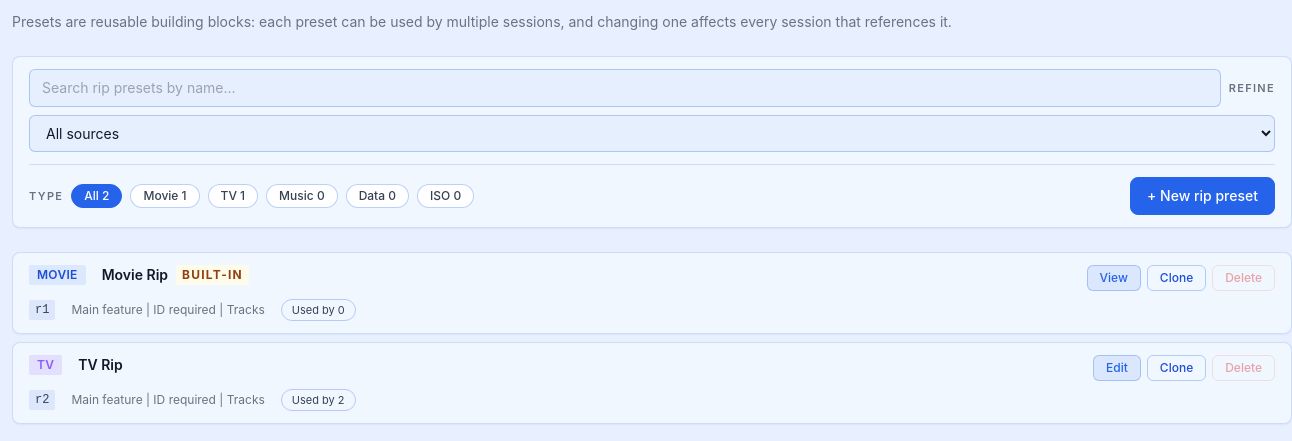
Test: search narrows presets by name
Type "movie" into the search field labelled "Search rip presets by name..." at point(625, 88), box [29, 69, 1221, 107]
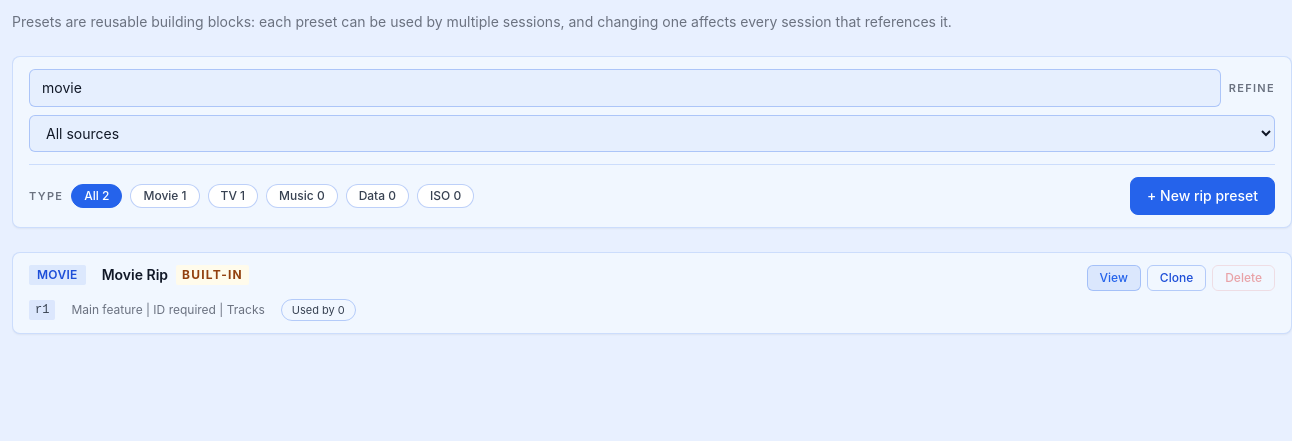
Expected: the text "Movie Rip" is shown, [102, 265, 168, 285]
Expected: the text "TV Rip" is gone
